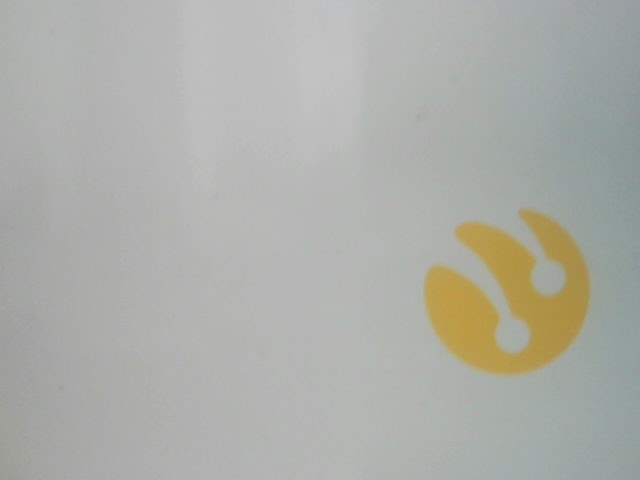AV_H3600Yellow: (408, 202, 607, 381)
